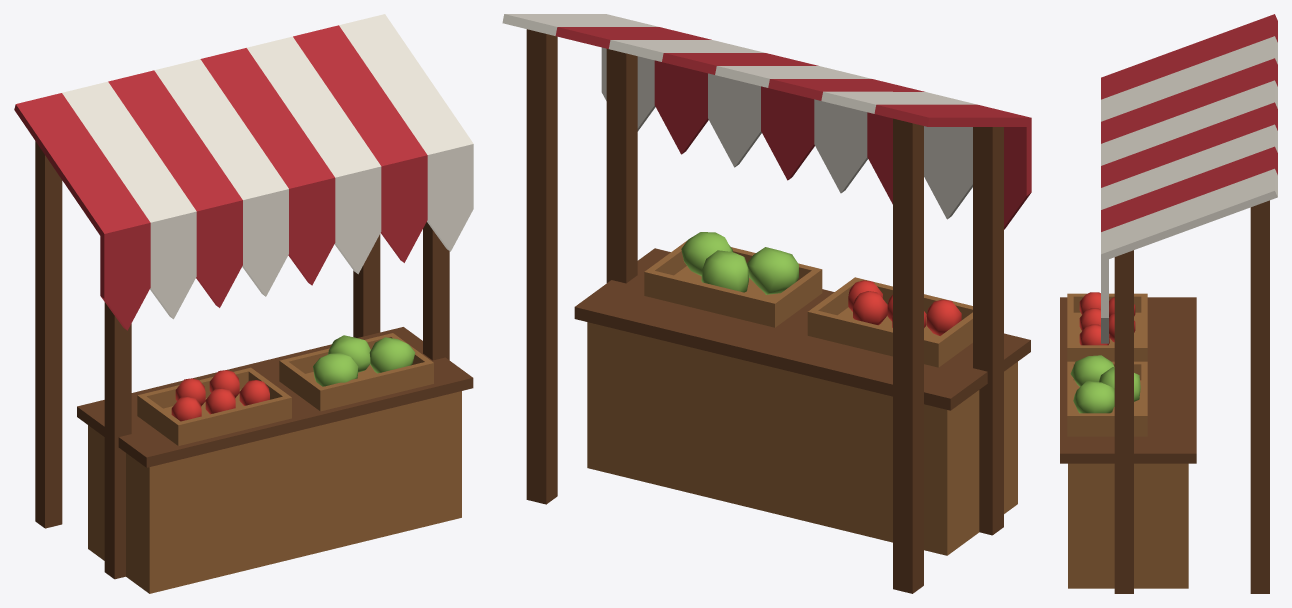
The model's file is market-stall.glb.
3 renders of one model, left to right at view 1: azimuth 30°, elevation 25°; view 2: azimuth 150°, elevation 25°; view 3: azimuth 270°, elevation 25°, orthographic. The views are drawn at different scales.
Parts seen in each view (by area): view 1: Stall awning, Stall counter, Stall posts, Stall baskets, Stall counter top, Stall cabbages, Stall apples; view 2: Stall counter, Stall posts, Stall awning, Stall counter top, Stall baskets, Stall cabbages, Stall apples; view 3: Stall awning, Stall posts, Stall counter, Stall counter top, Stall baskets, Stall cabbages, Stall apples.
Part boxes in pixels (<box>): Stall awning: <box>14,14,473,330</box>; Stall counter: <box>88,391,461,593</box>; Stall posts: <box>35,141,449,579</box>; Stall baskets: <box>137,333,433,445</box>; Stall counter top: <box>77,327,473,467</box>; Stall cabbages: <box>313,335,415,386</box>; Stall apples: <box>171,370,269,421</box>; Stall counter: <box>587,322,1017,555</box>; Stall posts: <box>526,29,1003,593</box>; Stall awning: <box>502,14,1031,229</box>; Stall counter top: <box>574,248,1030,410</box>; Stall baskets: <box>644,240,972,367</box>; Stall cabbages: <box>681,232,798,294</box>; Stall apples: <box>848,280,961,335</box>; Stall awning: <box>1101,14,1277,343</box>; Stall posts: <box>1114,200,1269,593</box>; Stall counter: <box>1068,463,1188,588</box>; Stall counter top: <box>1060,297,1196,463</box>; Stall baskets: <box>1067,293,1147,436</box>; Stall cabbages: <box>1070,355,1140,413</box>; Stall apples: <box>1079,292,1135,345</box>.
Size of the model in its own units: 2.6 by 2.82 by 1.35.
